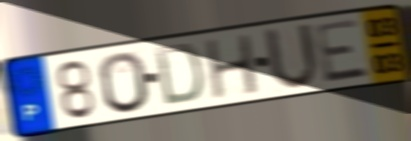8: (54, 58, 97, 120)
D: (152, 42, 205, 108)
E: (312, 16, 373, 86)
H: (203, 32, 262, 102)
O: (97, 50, 153, 116)
U: (262, 21, 322, 93)
